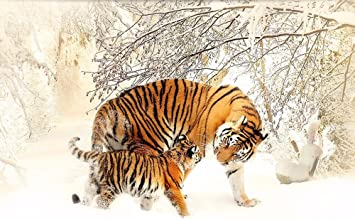Tigrew: (67, 63, 275, 169), (57, 136, 198, 206)
